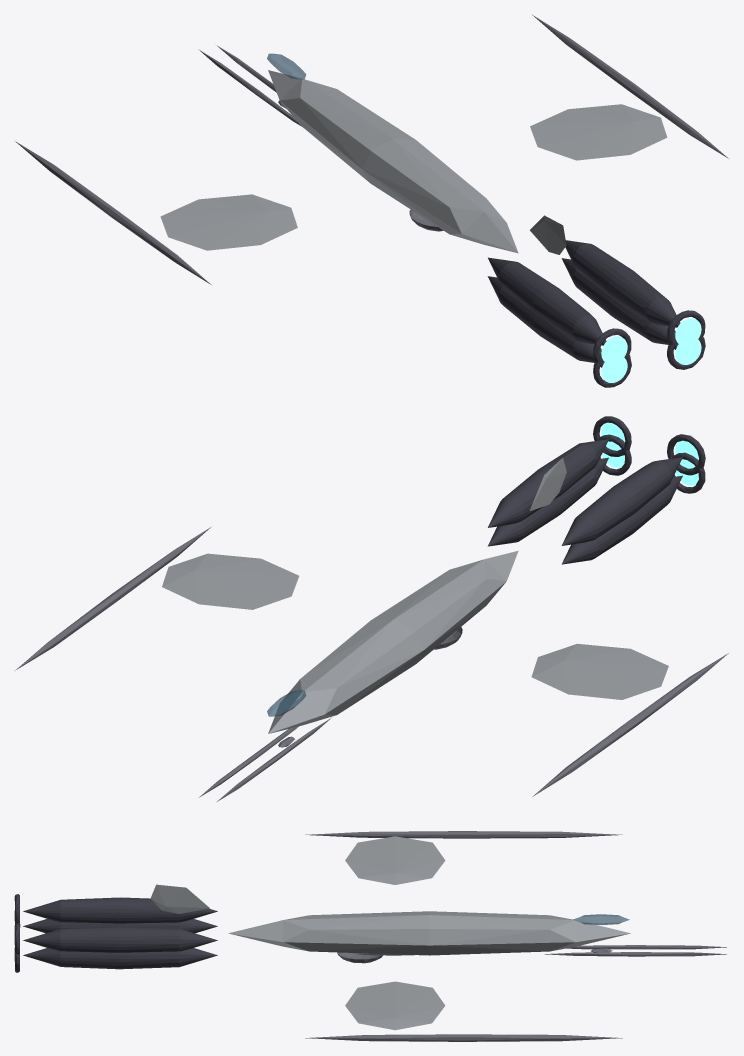
File: viper_fighter_LOD2.fbx
3 renders of one model, top to bottom at view 1: azimuth 30°, elevation 25°; view 2: azimuth 150°, elevation 25°; view 3: azimuth 270°, elevation 25°, orthographic. The views are drawn at different scales.
Parts seen in each view (by area): view 1: Viper_Fighter_LOD2; view 2: Viper_Fighter_LOD2; view 3: Viper_Fighter_LOD2.
Boxes of the visible parts, <box> form: Viper_Fighter_LOD2: <box>15,15,728,387</box>; Viper_Fighter_LOD2: <box>15,416,728,801</box>; Viper_Fighter_LOD2: <box>14,831,726,1041</box>.
Size of the model in its own units: 7.11 by 1.21 by 10.42.
